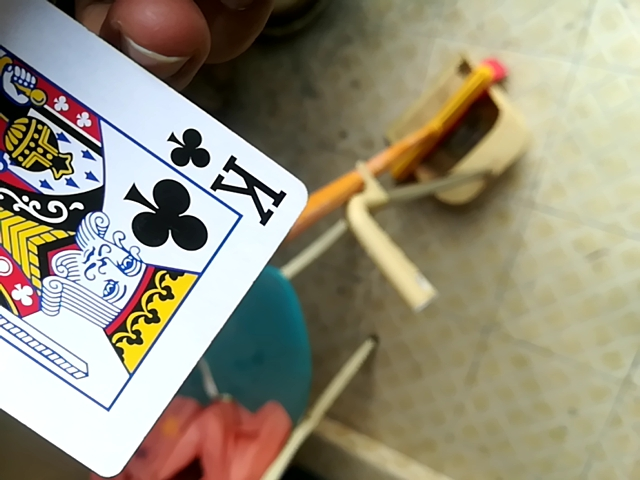mh k: (4, 0, 310, 477)
